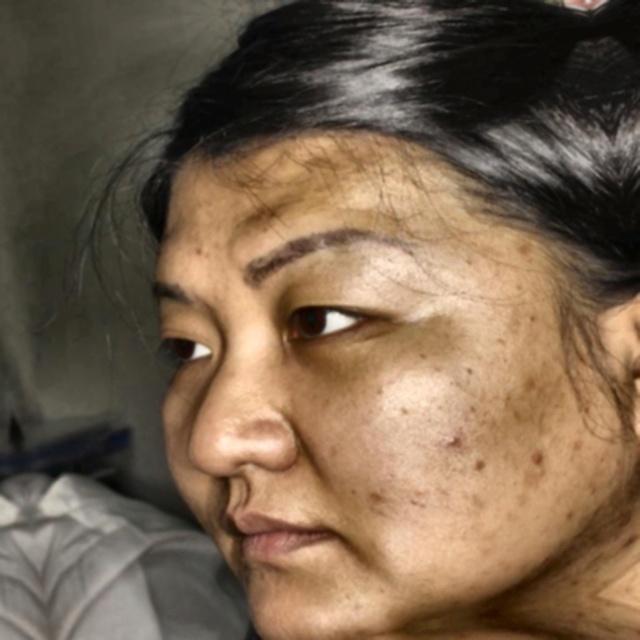comedone: (520, 444, 554, 477), (437, 428, 472, 460), (465, 450, 494, 480)
